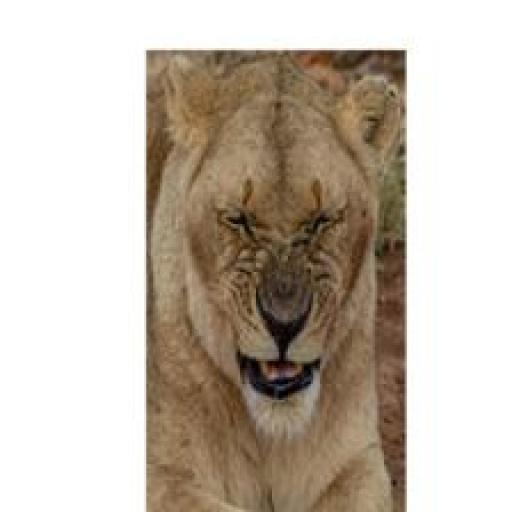lion: (137, 41, 436, 511)
